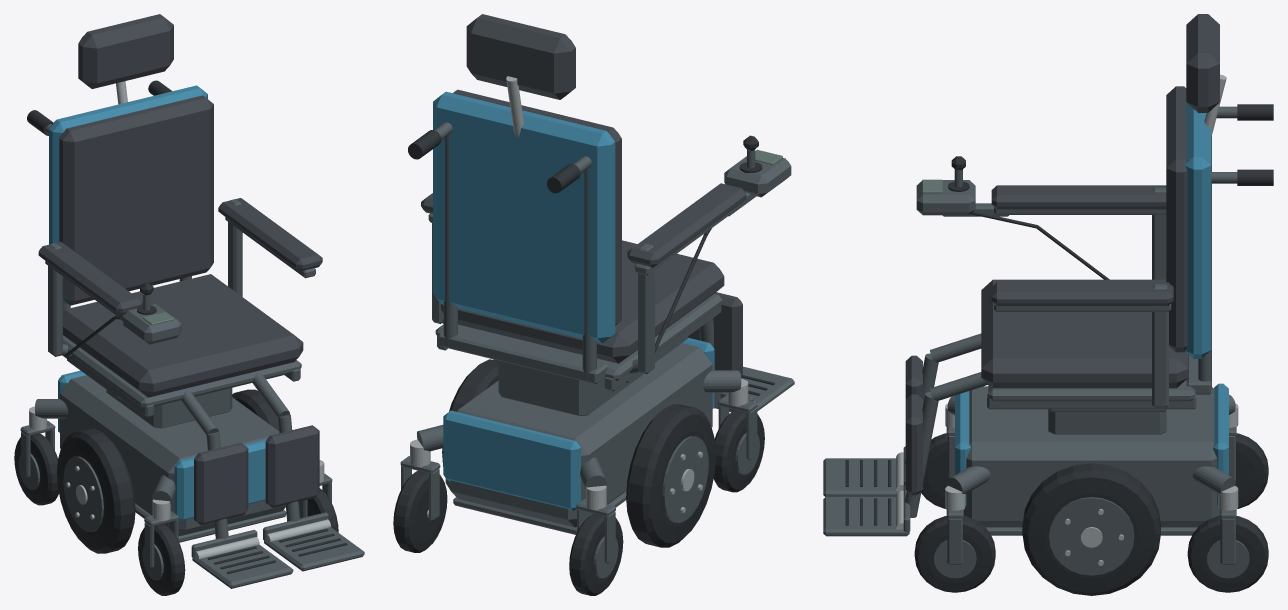
The picture shows the model from 3 angles, left to right: view 1: azimuth 30°, elevation 25°; view 2: azimuth 150°, elevation 25°; view 3: azimuth 270°, elevation 25°; orthographic projection. The views are drawn at different scales.
Visible parts, largest first — view 1: Back cushion, Complete seat cushion, Enclosed motor battery chassis, Head support pad, Drive tire L, Calf support R, Calf support L, Back shell, Seat pan, Armrest cushion R, Armrest cushion L, Blue front battery shroud (+22 smaller); view 2: Back shell, Enclosed motor battery chassis, Blue rear battery shroud, Complete seat cushion, Drive tire L, Head support pad, Seat support pedestal, Back lower cross mount, Armrest cushion L, Caster tire R rear, Drive hub L, Caster tire L rear (+24 smaller); view 3: Enclosed motor battery chassis, Complete seat cushion, Drive tire R, Back shell, Back cushion, Drive hub R, Armrest cushion L, Armrest cushion R, Caster tire R rear, Caster tire R front, Head support pad, Footplate R (+27 smaller).
Boxes of the visible parts, <box> form: Back cushion: <box>59,95,213,305</box>; Complete seat cushion: <box>63,274,303,397</box>; Enclosed motor battery chassis: <box>60,375,285,535</box>; Head support pad: <box>78,14,173,88</box>; Drive tire L: <box>57,428,135,553</box>; Calf support R: <box>265,425,319,507</box>; Calf support L: <box>194,442,248,525</box>; Back shell: <box>49,85,207,304</box>; Seat pan: <box>63,335,301,408</box>; Armrest cushion R: <box>218,198,322,271</box>; Armrest cushion L: <box>38,242,142,315</box>; Blue front battery shroud: <box>174,439,266,521</box>; Back shell: <box>433,91,615,343</box>; Enclosed motor battery chassis: <box>445,343,712,527</box>; Blue rear battery shroud: <box>443,410,580,511</box>; Complete seat cushion: <box>441,240,724,363</box>; Drive tire L: <box>626,404,716,547</box>; Head support pad: <box>466,14,575,99</box>; Seat support pedestal: <box>498,361,642,415</box>; Back lower cross mount: <box>438,327,608,384</box>; Armrest cushion L: <box>627,183,746,267</box>; Caster tire R rear: <box>393,470,447,552</box>; Drive hub L: <box>662,436,708,522</box>; Caster tire L rear: <box>569,513,623,595</box>; Enclosed motor battery chassis: <box>963,386,1219,527</box>; Complete seat cushion: <box>981,279,1188,388</box>; Drive tire R: <box>1022,463,1160,595</box>; Back shell: <box>1184,103,1211,358</box>; Back cushion: <box>1166,86,1187,352</box>; Drive hub R: <box>1049,497,1134,575</box>; Armrest cushion L: <box>991,185,1166,209</box>; Armrest cushion R: <box>991,282,1173,305</box>; Caster tire R rear: <box>1187,516,1268,592</box>; Caster tire R front: <box>914,516,995,592</box>; Head support pad: <box>1186,14,1219,112</box>; Footplate R: <box>823,496,909,536</box>.
Bounding box in the file's own units: 0.594 × 1.25 × 0.99.
